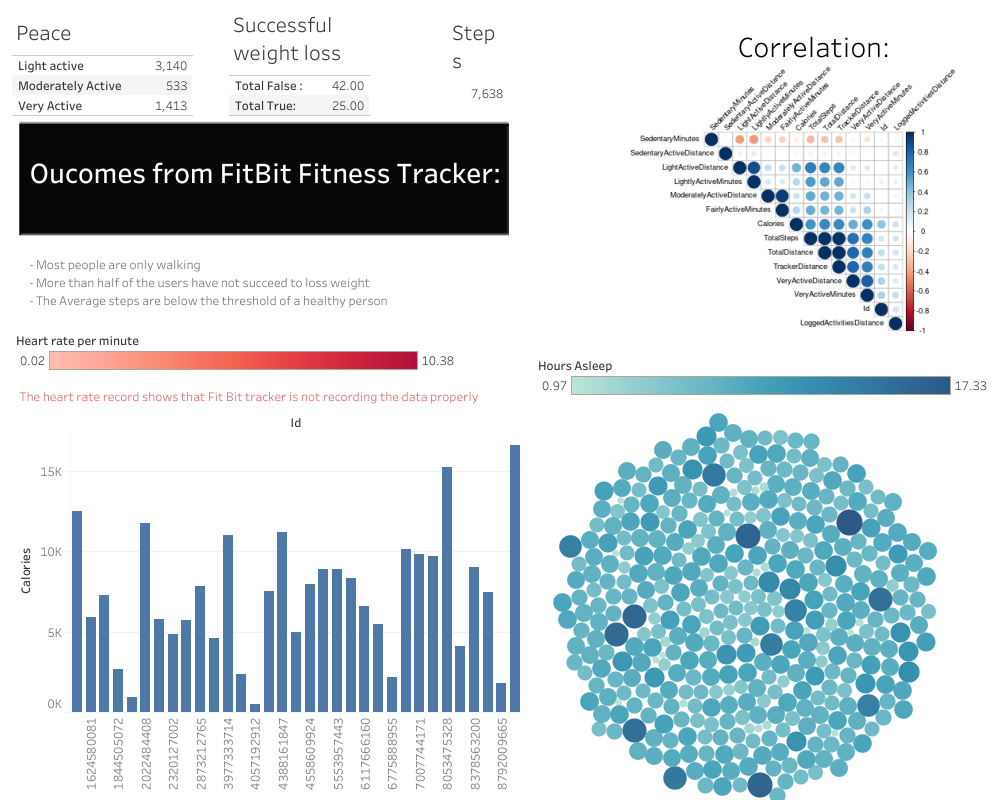

Layout of this report page (visuals, bound fields, positions):
{"tool":"tableau","page":{"name":"Dashboard 1","canvas":[1000,800],"ordinal":0},"visuals":[{"type":"worksheet","title":"Weight","mark":"Automatic","box":[229,4,333,166]},{"type":"worksheet","title":"Peace","mark":"Automatic","box":[8,8,984,784]},{"type":"text","box":[735,8,191,75]},{"type":"worksheet","title":"Steps","mark":"Automatic","box":[448,12,132,104]},{"type":"image","param":"Image/Blue-Line-PNG-Image-Transparent-Background.png","box":[2,94,743,166]},{"type":"text","box":[27,134,528,76]},{"type":"text","box":[27,221,432,90]},{"type":"legend","title":"Sheet 7","param":"[federated.06egd550ftafmg1azl5770f1cf52].[usr:Calculation_1912341054848606246:qk","box":[16,327,443,80]},{"type":"legend","title":"Sheet 6","param":"[federated.1snq41k0pjod3a16ayoe30dtmpay].[usr:Calculation_1912341054846369826:qk","box":[538,352,454,80]},{"type":"text","box":[17,378,499,36]},{"type":"legend","title":"Sheet 7","param":"[federated.06egd550ftafmg1azl5770f1cf52].[usr:Calculation_1912341054848606246:qk","box":[437,384,160,166]},{"type":"worksheet","title":"Bar Chart","mark":"Automatic","rows":["Calculation_1912341054844424223"],"cols":["Id"],"box":[9,412,513,380]},{"type":"worksheet","title":"Sheet 6","mark":"Circle","box":[549,412,445,392]},{"type":"legend","title":"Sheet 6","param":"[federated.1snq41k0pjod3a16ayoe30dtmpay].[sum:TotalMinutesAsleep:qk]","box":[374,427,160,166]},{"type":"worksheet","title":"Sheet 7","mark":"Automatic","box":[121,511,333,166]}]}

Visuals, with their boxes in screenshot pixels (x1, y1, x2, y2), scaled from the page's 1000x800 canvas onto the 1000x800 screenshot:
"Weight" worksheet: l=229, t=4, r=562, b=170
"Peace" worksheet: l=8, t=8, r=992, b=792
text: l=735, t=8, r=926, b=83
"Steps" worksheet: l=448, t=12, r=580, b=116
image: l=2, t=94, r=745, b=260
text: l=27, t=134, r=555, b=210
text: l=27, t=221, r=459, b=311
"Sheet 7" legend: l=16, t=327, r=459, b=407
"Sheet 6" legend: l=538, t=352, r=992, b=432
text: l=17, t=378, r=516, b=414
"Sheet 7" legend: l=437, t=384, r=597, b=550
"Bar Chart" worksheet: l=9, t=412, r=522, b=792
"Sheet 6" worksheet (Circle marks): l=549, t=412, r=994, b=799
"Sheet 6" legend: l=374, t=427, r=534, b=593
"Sheet 7" worksheet: l=121, t=511, r=454, b=677
